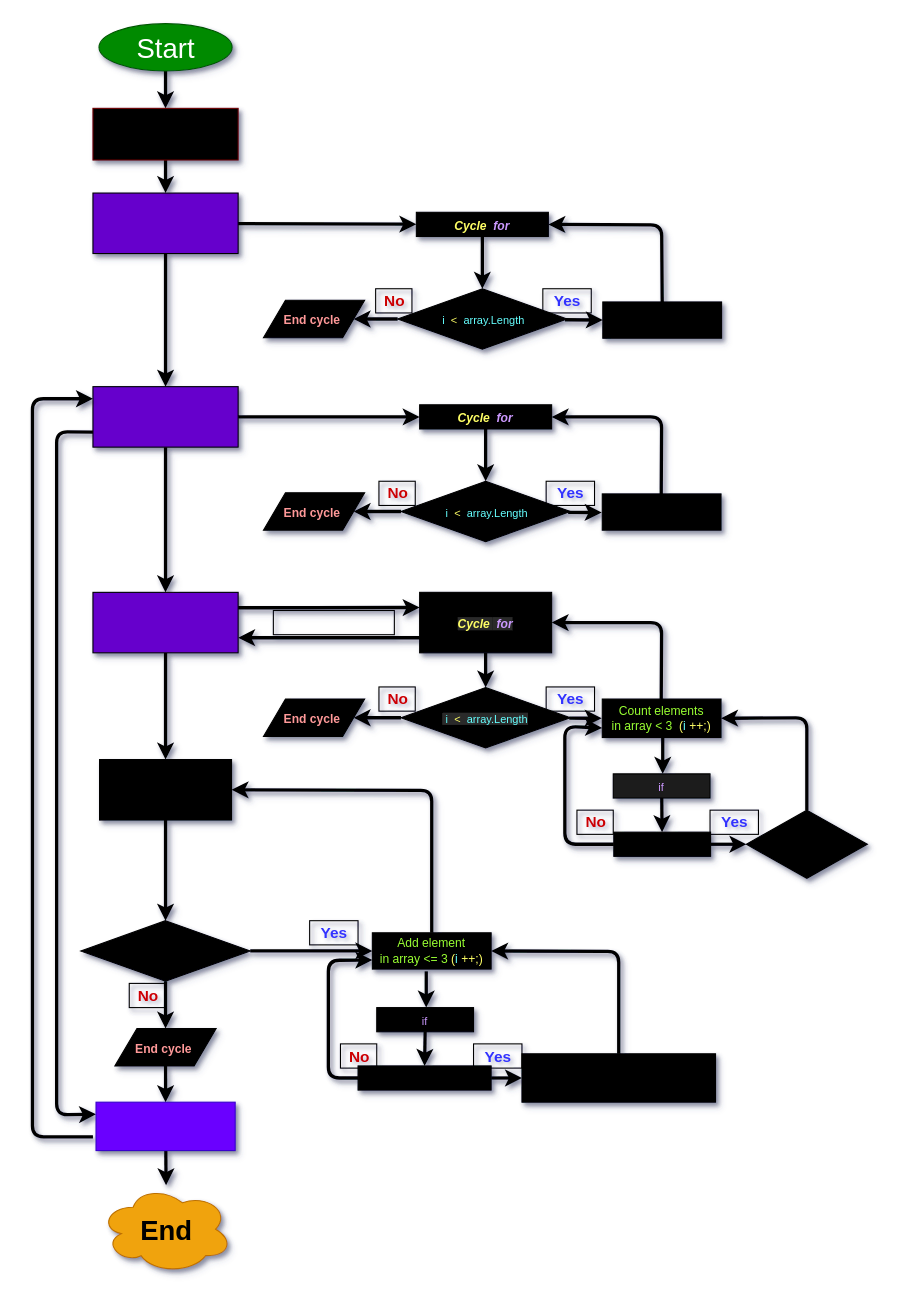
The diagram is 900 pixels wide and 1307 high, and some of its shapes have lost their labels. The shapes that lost their labels are listed below. From the top down, each one's centre as x and y in pixels, then its label:
At [166,135]: "Input quantity of array elements (N)".
At [166,224]: "void GetArray (inputArray)".
At [662,321]: "Insert element to array ( i ++;)".
At [166,418]: "void ShowArray (inputArray)".
At [662,513]: "Print element in array ( i ++;)".
At [166,624]: "int SortArray (inputArray)".
At [334,623]: "return count ;".
At [166,791]: "int count = 0; Cycle for".
At [662,845]: "array [ i ] . Length > 3".
At [807,845]: "array.Length --;".
At [166,952]: "i < inputA rray . Length".
At [425,1079]: "inputA rray[ i ] . Length <= 3".
At [619,1079]: "SortedArray [ count ] = inputArray [ i ]; count ++;".
At [166,1127]: "ShowArray (SortedArray)".
